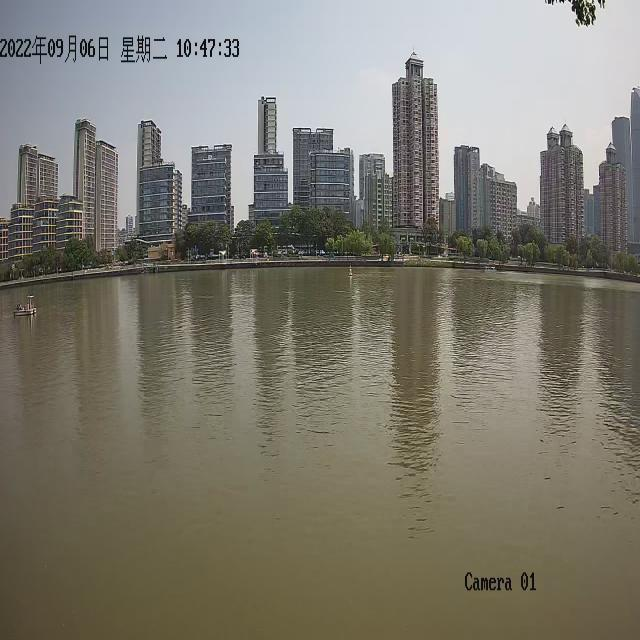ship: (13, 293, 36, 315), (483, 265, 496, 272)
